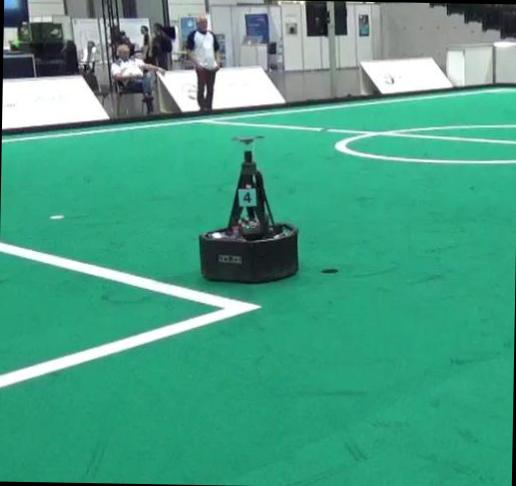robot: (200, 136, 298, 282)
